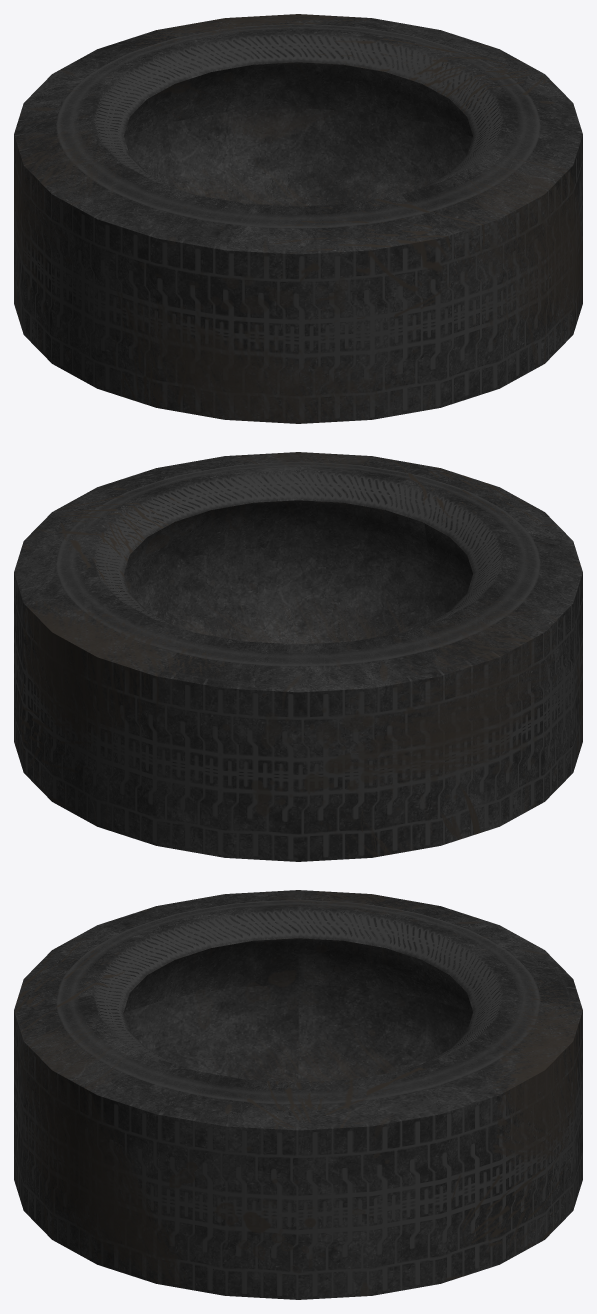
Rendered from Tire-mesh.fbx.
The picture shows the model from 3 angles, top to bottom: view 1: azimuth 30°, elevation 25°; view 2: azimuth 150°, elevation 25°; view 3: azimuth 270°, elevation 25°; orthographic projection.
Visible parts, largest first — view 1: Tire_mesh; view 2: Tire_mesh; view 3: Tire_mesh.
Part boxes in pixels (x1,y1,x2,y2): Tire_mesh: (14, 14, 582, 423); Tire_mesh: (14, 452, 582, 861); Tire_mesh: (14, 890, 582, 1299).
Size of the model in its own units: 207 by 80.26 by 207.
Materials: 1 (1 with a texture image).
